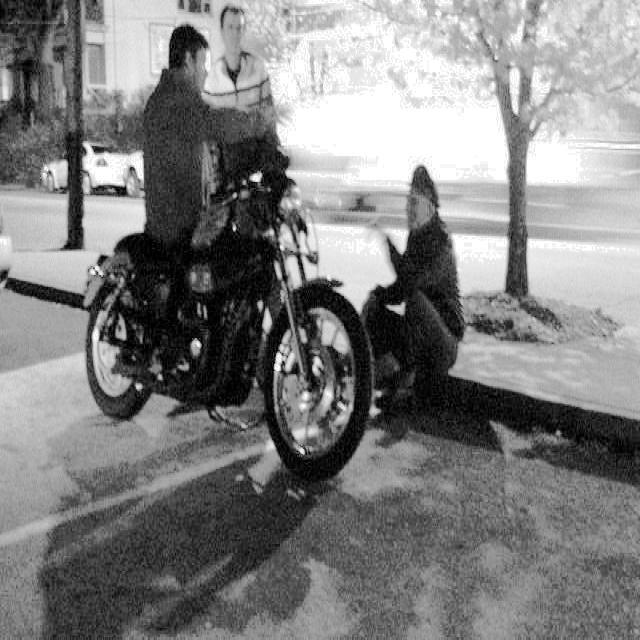Motorcycle: (78, 200, 380, 514)
Person: (349, 142, 489, 478), (153, 8, 228, 301), (212, 0, 275, 255)
